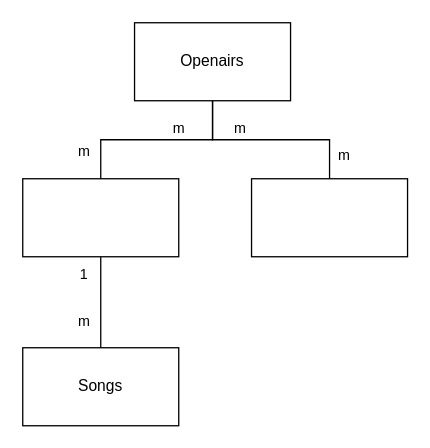
Image size: 430x448. Some labels were removed from this diagram. The box of each missing label's shape, as (x1, y1, x2, y2) in pixels:
Acts: (21, 177, 179, 257)
Sponsors: (250, 177, 408, 257)
